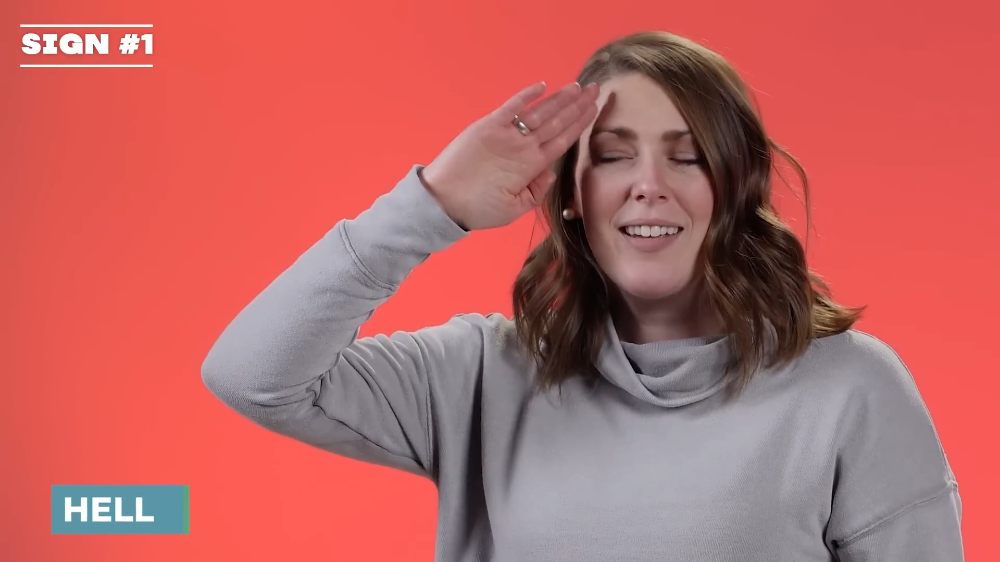hello: (431, 75, 610, 220)
